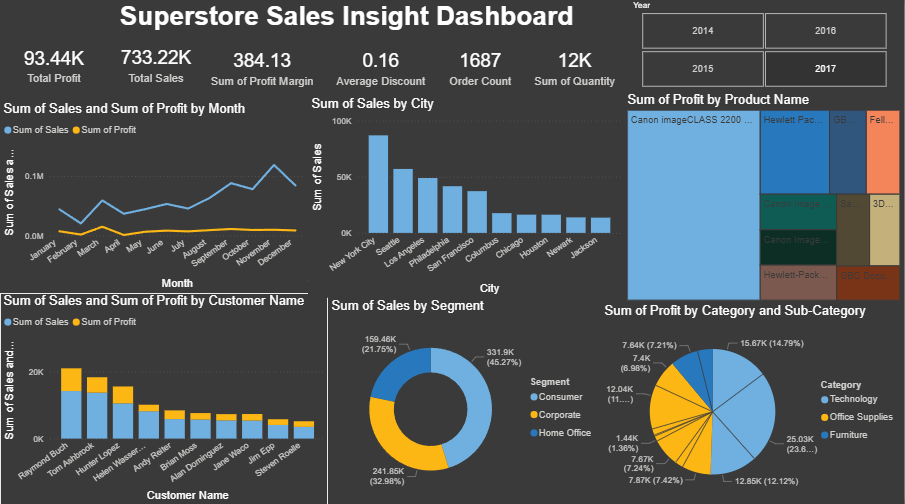

The dashboard page shown, as its layout file describes it:
{"tool":"powerbi","page":{"name":"Page 1","canvas":[1280,720],"ordinal":0},"visuals":[{"type":"card","fields":{"Values":["Sample - Superstore.Total Sales"]},"box":[152.9,55.4,136.1,79],"z":0},{"type":"textbox","box":[0,0,982.7,55.4],"z":1000},{"type":"card","fields":{"Values":["Sample - Superstore.Total Profit"]},"box":[0,57.1,152.9,77.3],"z":2000},{"type":"card","fields":{"Values":["Sum(Sample - Superstore.Profit Margin)"]},"box":[288.9,62.2,164.6,72.2],"z":3000},{"type":"card","fields":{"Values":["Sample - Superstore.Average Discount"]},"box":[465.3,62.2,149.5,72.2],"z":4000},{"type":"card","fields":{"Values":["Sample - Superstore.Order Count"]},"box":[614.8,62.2,131,72.2],"z":5000},{"type":"card","fields":{"Values":["Sum(Sample - Superstore.Quantity)"]},"box":[745.8,62.2,137.7,72.2],"z":6000},{"type":"pieChart","fields":{"Category":["Sample - Superstore.Category"],"Y":["Sum(Sample - Superstore.Profit)"],"Series":["Sample - Superstore.Sub-Category"]},"box":[851.7,433.4,428.3,287.2],"z":8000},{"type":"treemap","fields":{"Values":["Sum(Sample - Superstore.Profit)"],"Group":["Sample - Superstore.Product Name"]},"box":[884,134,396,300],"z":9000},{"type":"columnChart","fields":{"Category":["Sample - Superstore.Customer Name"],"Y":["Sum(Sample - Superstore.Sales)","Sum(Sample - Superstore.Profit)"]},"box":[0,419.9,465.3,300.7],"z":10000},{"type":"slicer","fields":{"Values":["Sample - Superstore.Order Date.Variation.Date Hierarchy.Year"]},"box":[884,0,396,134],"z":11000},{"type":"clusteredColumnChart","fields":{"Y":["Sum(Sample - Superstore.Sales)"],"Category":["Sample - Superstore.City"]},"box":[436,140,448,286],"z":12000},{"type":"donutChart","fields":{"Category":["Sample - Superstore.Segment"],"Y":["Sum(Sample - Superstore.Sales)"]},"box":[465.2,426.1,387,294.2],"z":12001},{"type":"lineChart","fields":{"Y":["Sum(Sample - Superstore.Sales)","Sum(Sample - Superstore.Profit)"],"Category":["Sample - Superstore.Order Date.Variation.Date Hierarchy.Month"]},"box":[0,148,436,272],"z":12002}]}

Visuals, with their boxes in screenshot pixels (x1, y1, x2, y2), scaled from the page's 1280x720 canvas onto the 905x504 screenshot:
card - Sample - Superstore.Total Sales: locate(108, 39, 204, 94)
textbox: locate(0, 0, 695, 39)
card - Sample - Superstore.Total Profit: locate(0, 40, 108, 94)
card - Sum(Sample - Superstore.Profit Margin): locate(204, 44, 321, 94)
card - Sample - Superstore.Average Discount: locate(329, 44, 435, 94)
card - Sample - Superstore.Order Count: locate(435, 44, 527, 94)
card - Sum(Sample - Superstore.Quantity): locate(527, 44, 625, 94)
pieChart - Sample - Superstore.Category x Sum(Sample - Superstore.Profit): locate(602, 303, 904, 503)
treemap - Sum(Sample - Superstore.Profit) x Sample - Superstore.Product Name: locate(625, 94, 904, 304)
columnChart - Sample - Superstore.Customer Name x Sum(Sample - Superstore.Sales): locate(0, 294, 329, 503)
slicer - Sample - Superstore.Order Date.Variation.Date Hierarchy.Year: locate(625, 0, 904, 94)
clusteredColumnChart - Sum(Sample - Superstore.Sales) x Sample - Superstore.City: locate(308, 98, 625, 298)
donutChart - Sample - Superstore.Segment x Sum(Sample - Superstore.Sales): locate(329, 298, 603, 503)
lineChart - Sum(Sample - Superstore.Sales) x Sum(Sample - Superstore.Profit): locate(0, 104, 308, 294)
